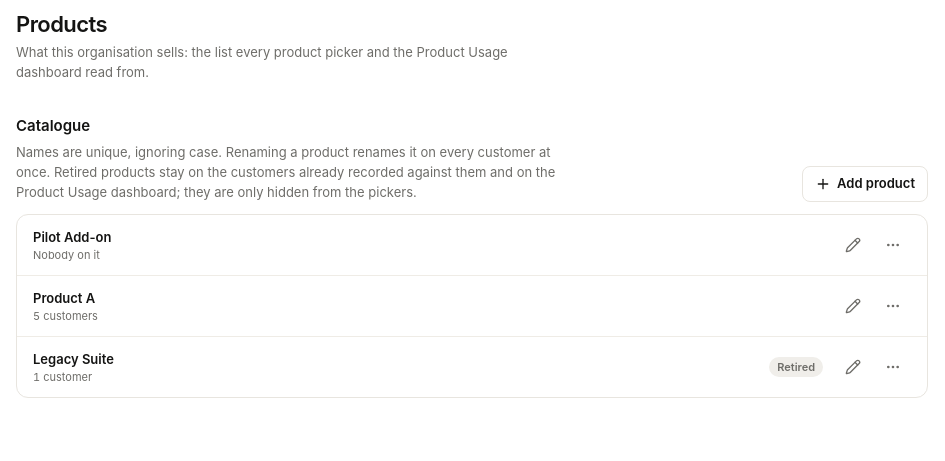
Products on the settings frame (UI foundations spec §6.3, §4.2) › keyboard focus › a failed Bring back shows the row alert and puts focus on that row's menu
Check: the text "Legacy Suite" is shown, box x1=33 y1=351 x2=114 y2=367
Click the button named "More actions for Legacy Suite" at (893, 367), box x1=875 y1=349 x2=911 y2=385
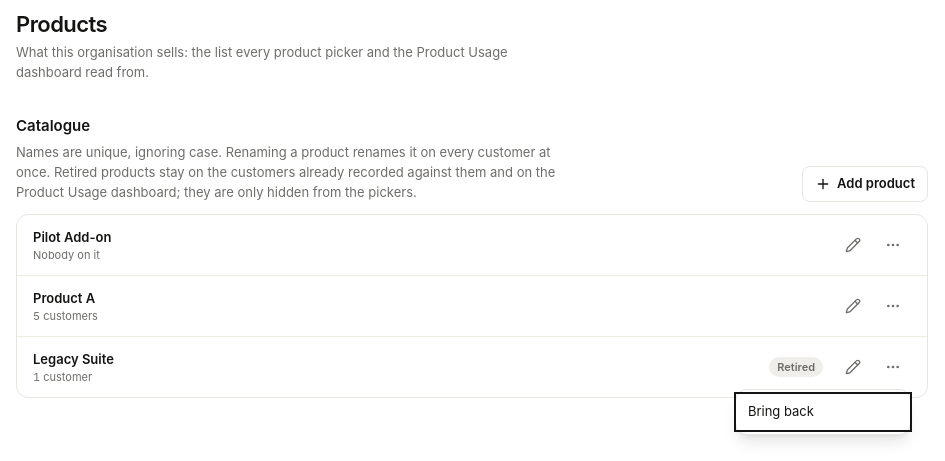
Click the menu item "Bring back" at (823, 412), box x1=736 y1=394 x2=910 y2=430
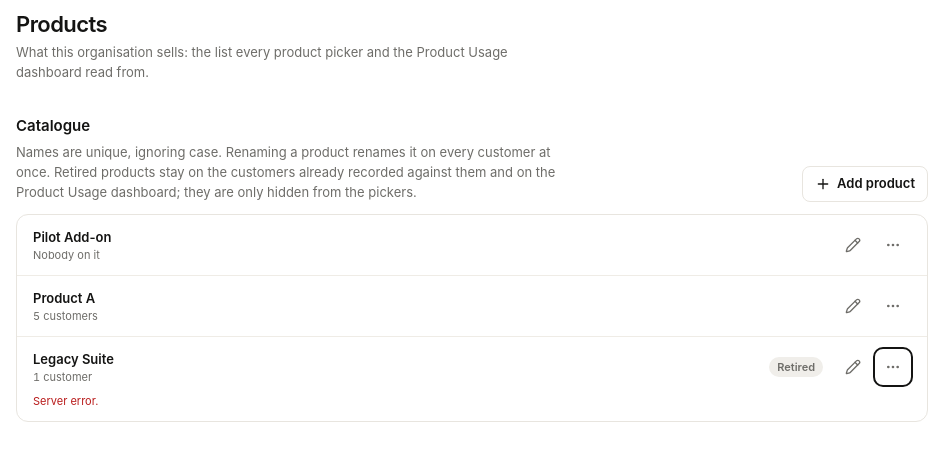
Check: the message reads "Server error.", box x1=33 y1=394 x2=98 y2=408
